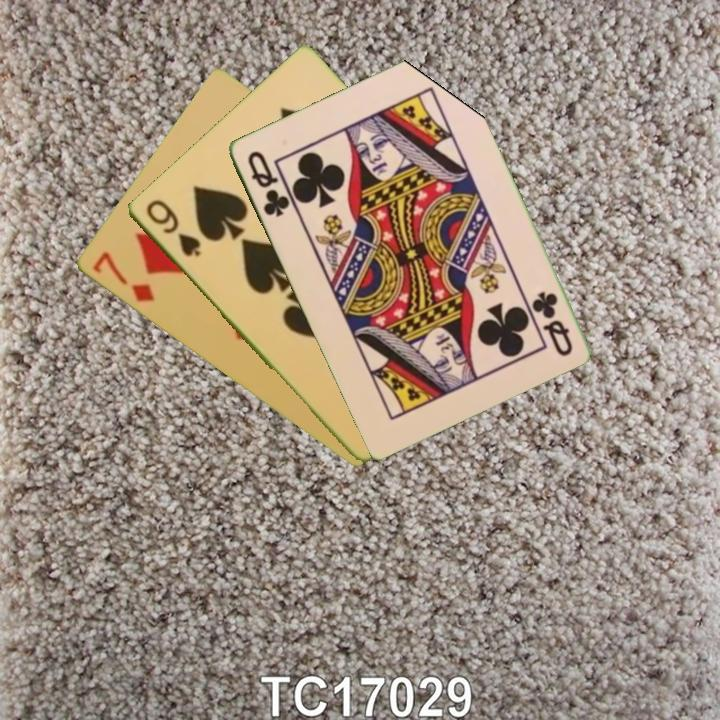7d: (88, 248, 157, 305)
9s: (142, 196, 204, 260)
Qc: (243, 147, 293, 220), (528, 287, 575, 360)
